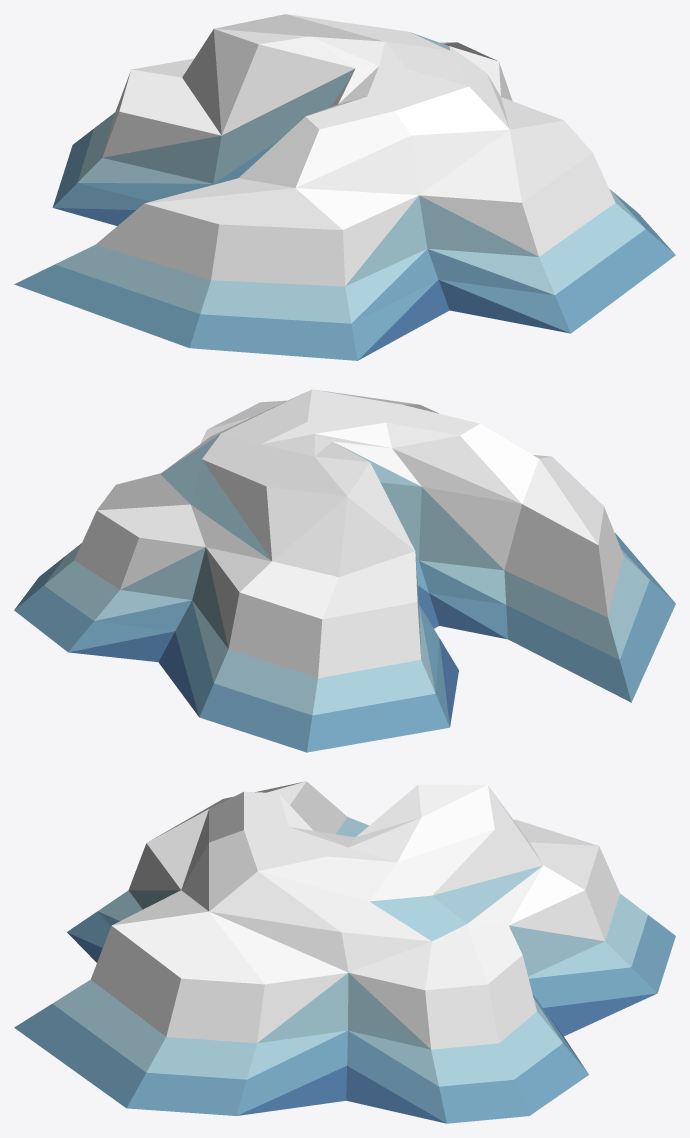
Rendered from terrainCrack1.fbx.
3 views of the same model, one above another, from view 1: azimuth 30°, elevation 25°; view 2: azimuth 150°, elevation 25°; view 3: azimuth 270°, elevation 25° (orthographic). The views are drawn at different scales.
Parts seen in each view (by area): view 1: bottom, top; view 2: bottom, top; view 3: bottom, top.
Boxes of the visible parts, x1,y1,x2,y2 form: bottom: (14, 29, 675, 360); top: (119, 14, 592, 229); bottom: (14, 441, 675, 752); top: (97, 389, 603, 619); bottom: (14, 781, 675, 1123); top: (112, 781, 599, 990).
Size of the model in its own units: 600 by 181 by 594.
Materials: 2 (2 with a texture image).
